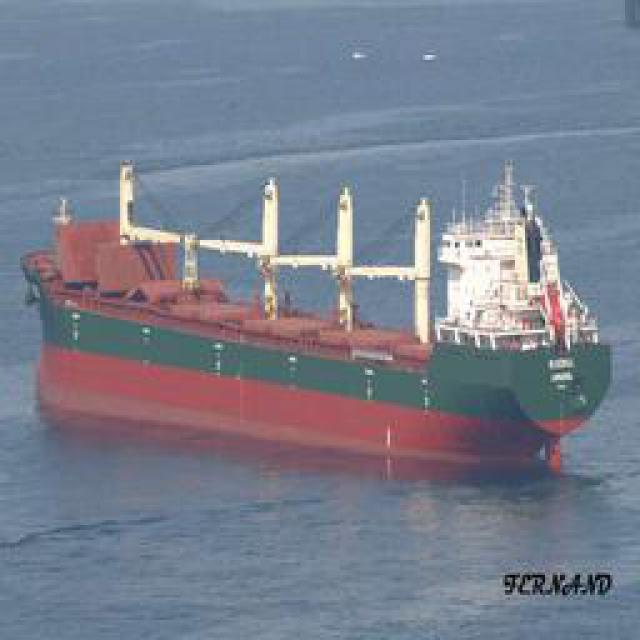Ship: (32, 151, 620, 484)
